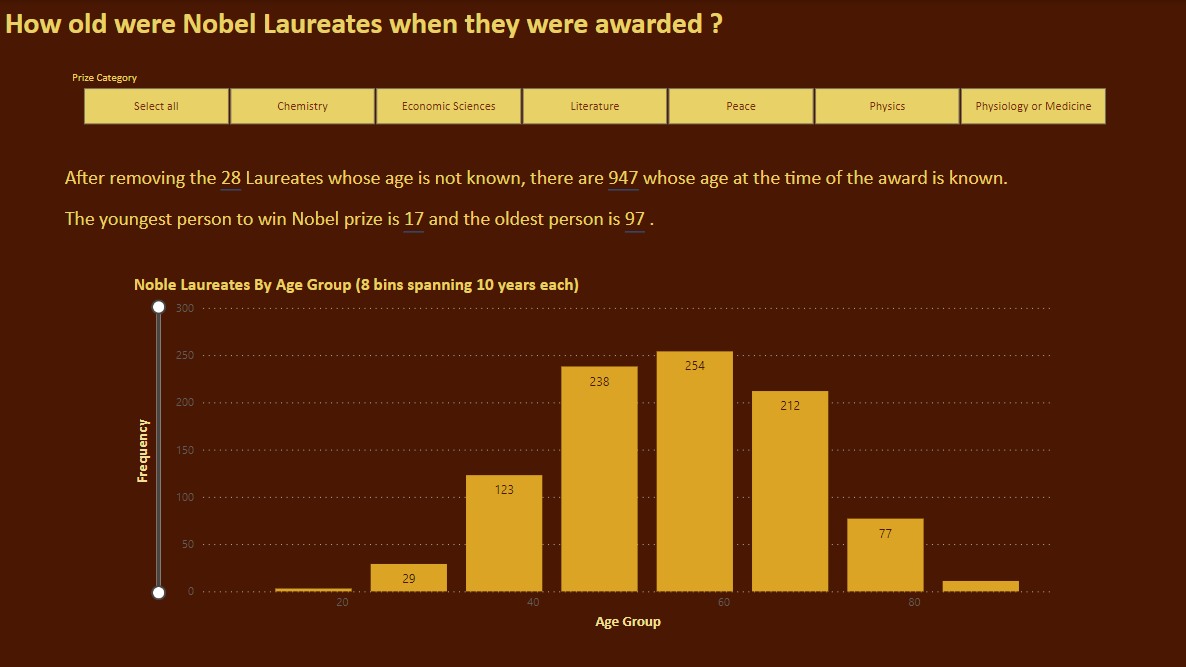

Layout of this report page (visuals, bound fields, positions):
{"tool":"powerbi","page":{"name":"Nobel Laureate","canvas":[1280,720],"ordinal":0},"visuals":[{"type":"columnChart","title":"Noble Laureates By Age Group (8 bins spanning 10 years each)","fields":{"Category":["Lauraetes.Age Group"],"Y":["CountNonNull(Lauraetes.Index)"]},"box":[139.1,294.5,1001.5,389.9],"z":0},{"type":"slicer","fields":{"Values":["Lauraetes.Prize Category"]},"box":[64.7,71.2,1152,69.6],"z":1},{"type":"textbox","box":[0,0,1009.6,50.2],"z":2},{"type":"textbox","box":[64.7,173.1,1152,89],"z":3}]}

Visuals, with their boxes in screenshot pixels (x1, y1, x2, y2), scaled from the page's 1280x720 canvas onto the 1186x667 screenshot:
"Noble Laureates By Age Group (8 bins spanning 10 years each)" columnChart: x1=129 y1=273 x2=1057 y2=634
slicer - Lauraetes.Prize Category: x1=60 y1=66 x2=1127 y2=130
textbox: x1=0 y1=0 x2=935 y2=47
textbox: x1=60 y1=160 x2=1127 y2=243
